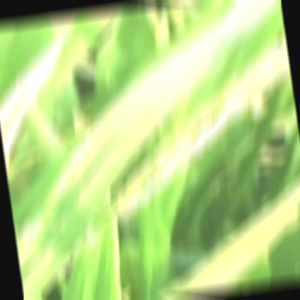Leaf_Blast: (16, 115, 134, 260)
